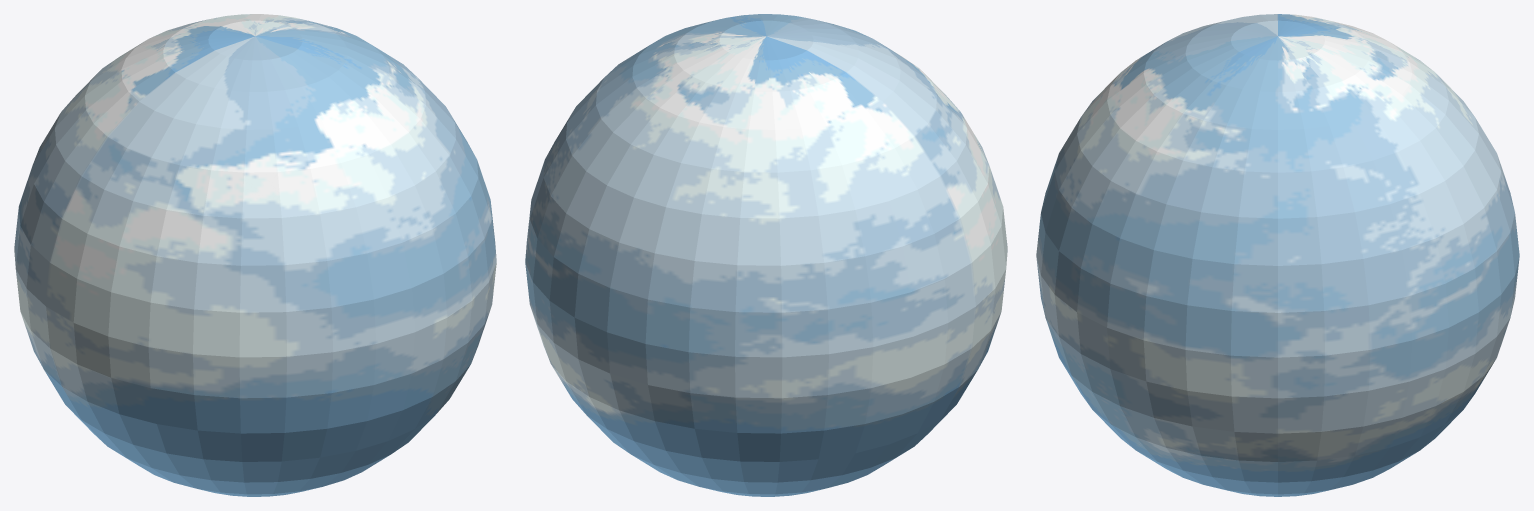
Rendered from Hoenn_map.glb.
The picture shows the model from 3 angles, left to right: view 1: azimuth 30°, elevation 25°; view 2: azimuth 150°, elevation 25°; view 3: azimuth 270°, elevation 25°; orthographic projection.
Parts seen in each view (by area): view 1: Sphere; view 2: Sphere; view 3: Sphere.
Boxes of the visible parts, x1,y1,x2,y2 form: Sphere: (14,14,496,496); Sphere: (525,14,1007,496); Sphere: (1036,14,1519,496).
Size of the model in its own units: 709 by 709 by 709.
27 materials, 2 textured.
